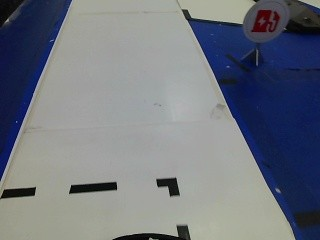battery: (239, 1, 290, 44)
